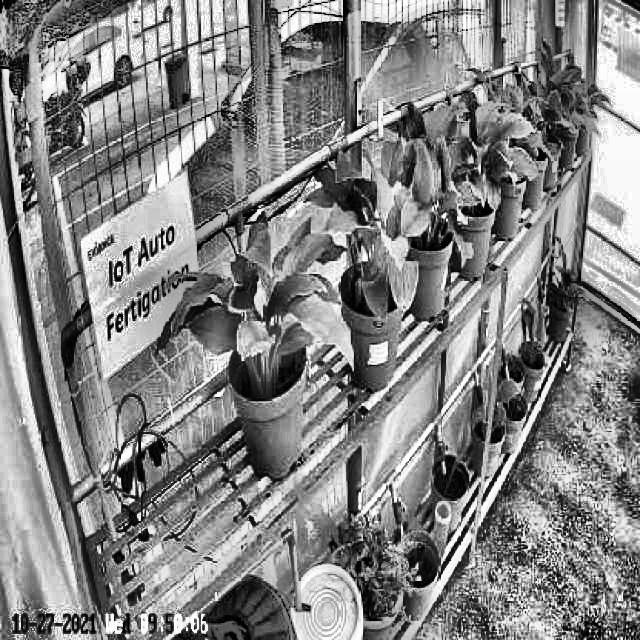plants: (153, 210, 352, 384), (307, 160, 418, 312), (420, 88, 538, 208), (380, 125, 474, 272)
